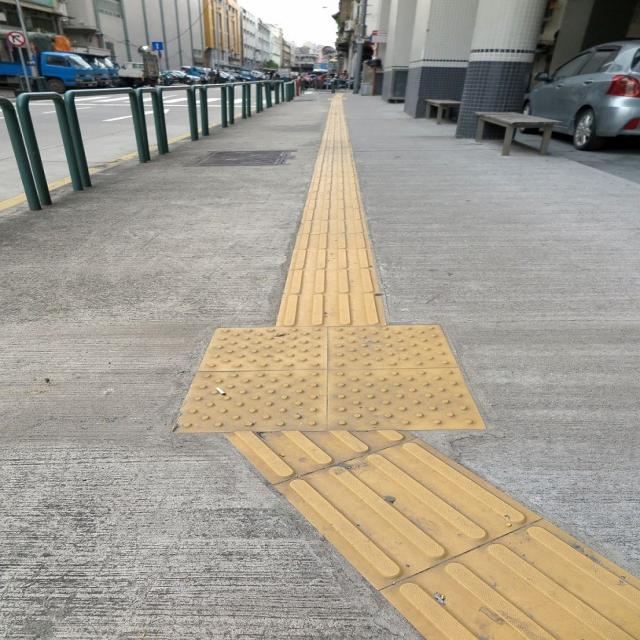tactile-guide-path: (226, 430, 640, 640), (175, 325, 486, 429), (276, 92, 386, 326)
